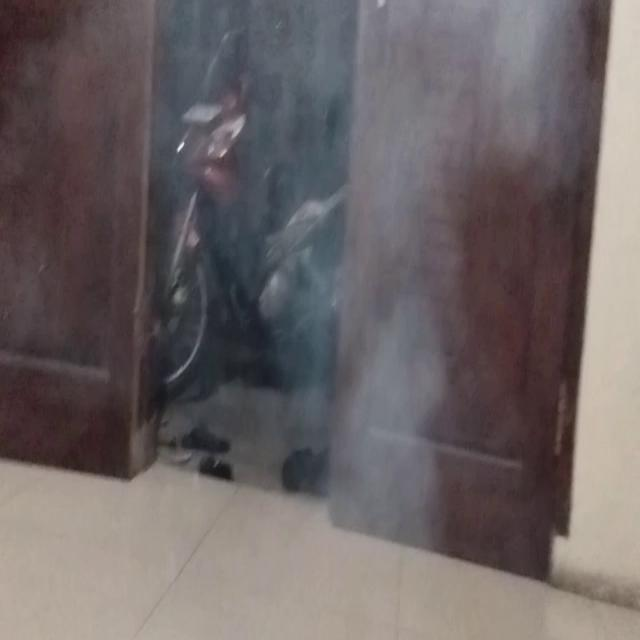fire: (322, 0, 554, 485)
